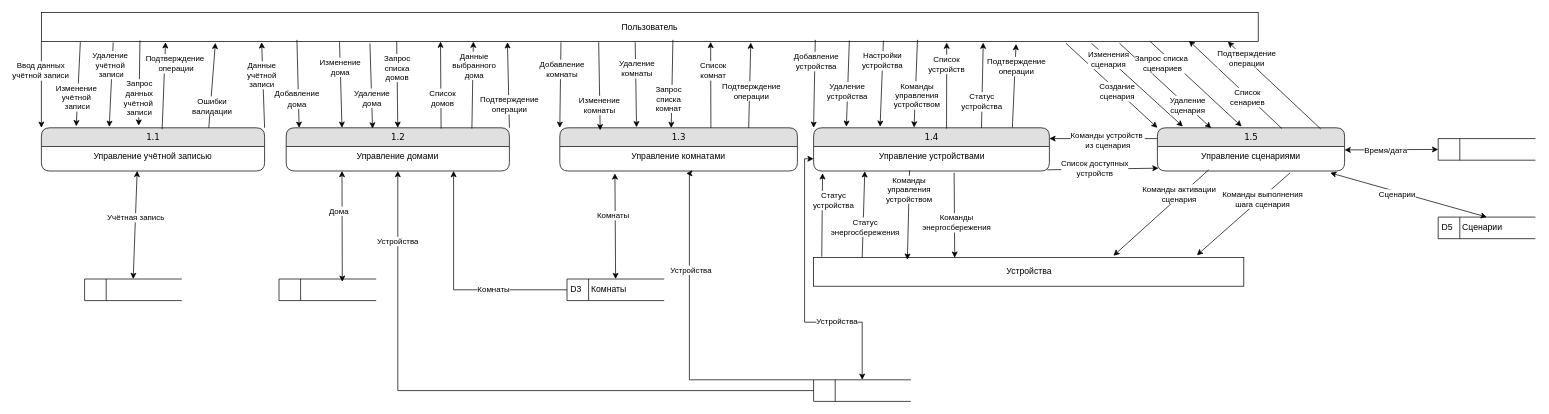
The diagram is 1549 pixels wide and 414 high, and some of its shapes have lost their labels. Each missing label, with the centre of its shape:
D1 Учётные записи: point (133, 289)
D2 Дома: point (327, 289)
D4 Устройства: point (862, 390)
D6 Расписание: point (1486, 149)
